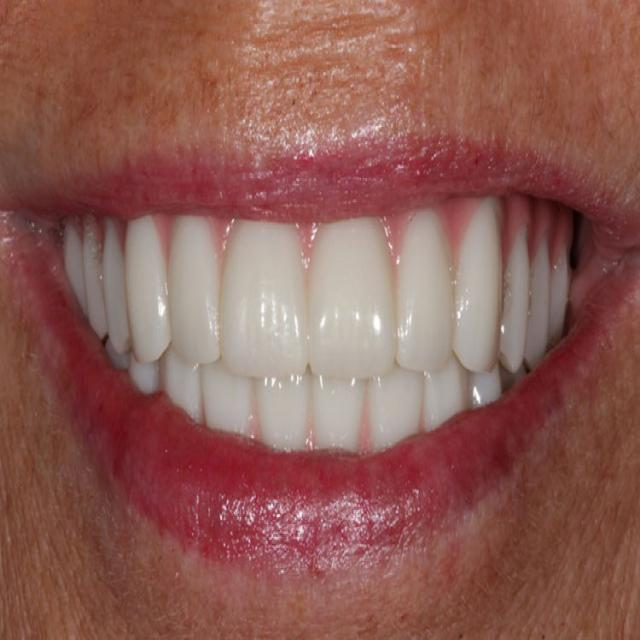tooth: (310, 223, 398, 374), (222, 222, 310, 369), (452, 194, 504, 370), (398, 205, 454, 366), (170, 219, 222, 362), (127, 217, 172, 351), (314, 372, 366, 459), (504, 213, 532, 370), (372, 374, 426, 454), (258, 373, 310, 452), (200, 364, 254, 438), (101, 223, 132, 345), (163, 355, 205, 418), (428, 370, 470, 428)
